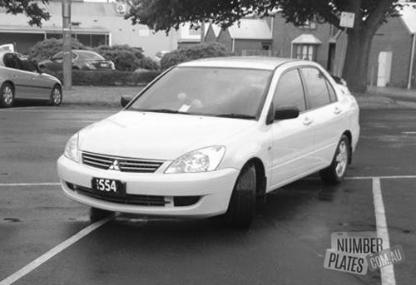license plate: (88, 173, 126, 199)
